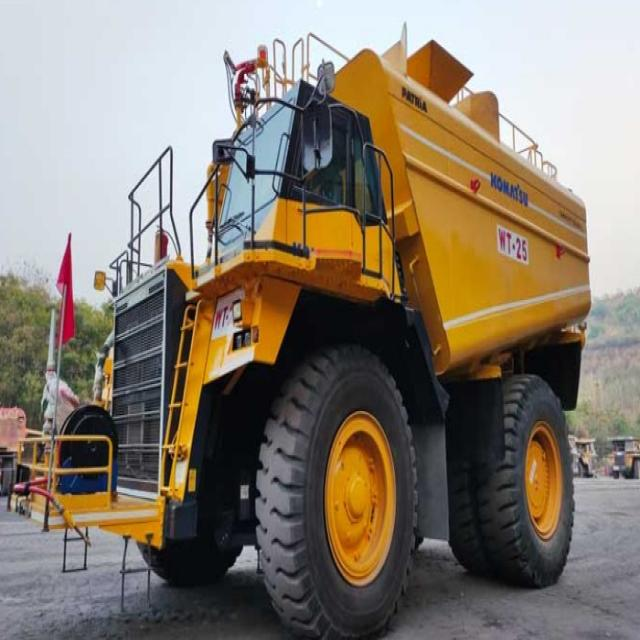dump_truck: (32, 17, 600, 636), (604, 425, 638, 486), (572, 425, 597, 483)
